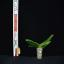leaf: (39, 34, 54, 47), (25, 39, 40, 47), (26, 39, 40, 46), (40, 41, 51, 48), (28, 45, 39, 48), (41, 45, 46, 48)
